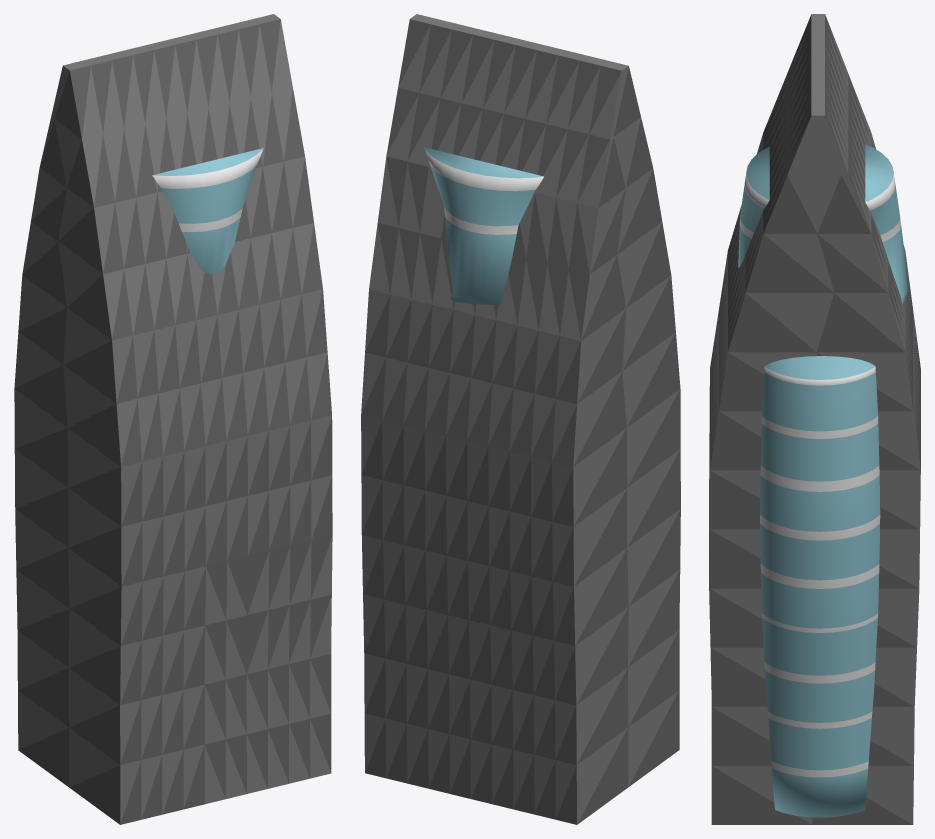
Rendered from cocoontower.fbx.
The picture shows the model from 3 angles, left to right: view 1: azimuth 30°, elevation 25°; view 2: azimuth 150°, elevation 25°; view 3: azimuth 270°, elevation 25°; orthographic projection.
Visible parts, largest first — view 1: Cylinder; view 2: Cylinder; view 3: Cylinder.
Boxes of the visible parts, left/top/right/bottom form: Cylinder: left=14, top=14, right=332, bottom=824; Cylinder: left=361, top=14, right=680, bottom=824; Cylinder: left=709, top=14, right=920, bottom=824.
Size of the model in its own units: 1127 by 3124 by 845.
